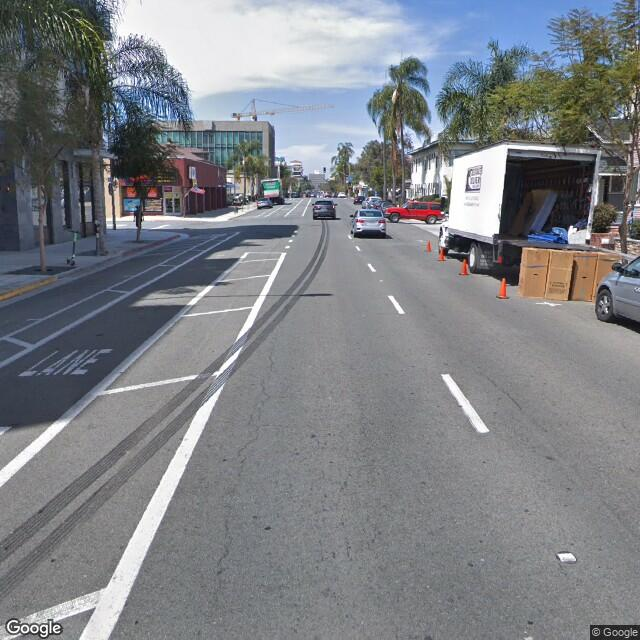road line: (1, 276, 272, 431)
